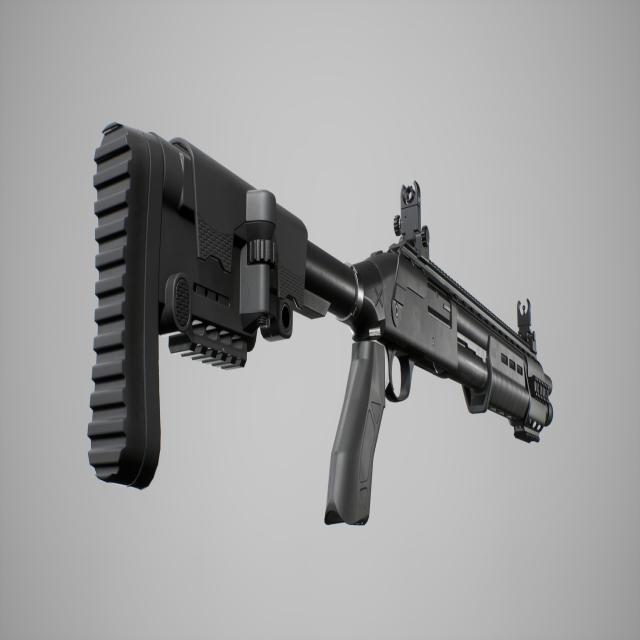ShotGun: (87, 124, 554, 527)
